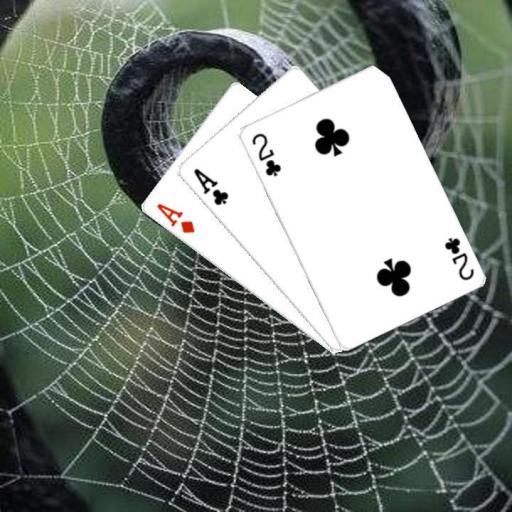2C: (440, 234, 475, 282), (248, 129, 282, 178)
AC: (190, 164, 230, 207)
AD: (153, 200, 196, 235)
